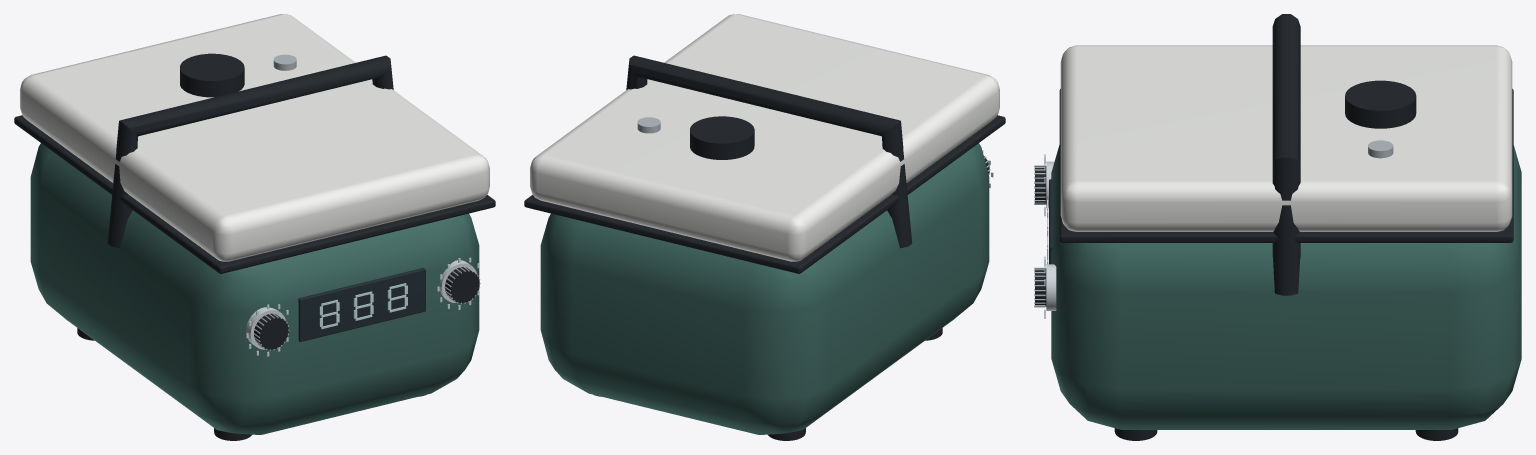
File: pressure-rice-cooker.glb
The picture shows the model from 3 angles, left to right: view 1: azimuth 30°, elevation 25°; view 2: azimuth 150°, elevation 25°; view 3: azimuth 270°, elevation 25°; orthographic projection. The views are drawn at different scales.
Parts seen in each view (by area): view 1: catalog_surface_RealismUV, catalog_surface_UVMap; view 2: catalog_surface_RealismUV; view 3: catalog_surface_RealismUV, catalog_surface_UVMap.
Boxes of the visible parts, x1,y1,x2,y2 form: catalog_surface_RealismUV: (14,14,495,440); catalog_surface_UVMap: (246,257,479,356); catalog_surface_RealismUV: (524,14,1005,440); catalog_surface_RealismUV: (1034,14,1521,440); catalog_surface_UVMap: (1044,154,1052,318).
Bounding box in the file's own units: 0.28 × 0.25 × 0.37.
